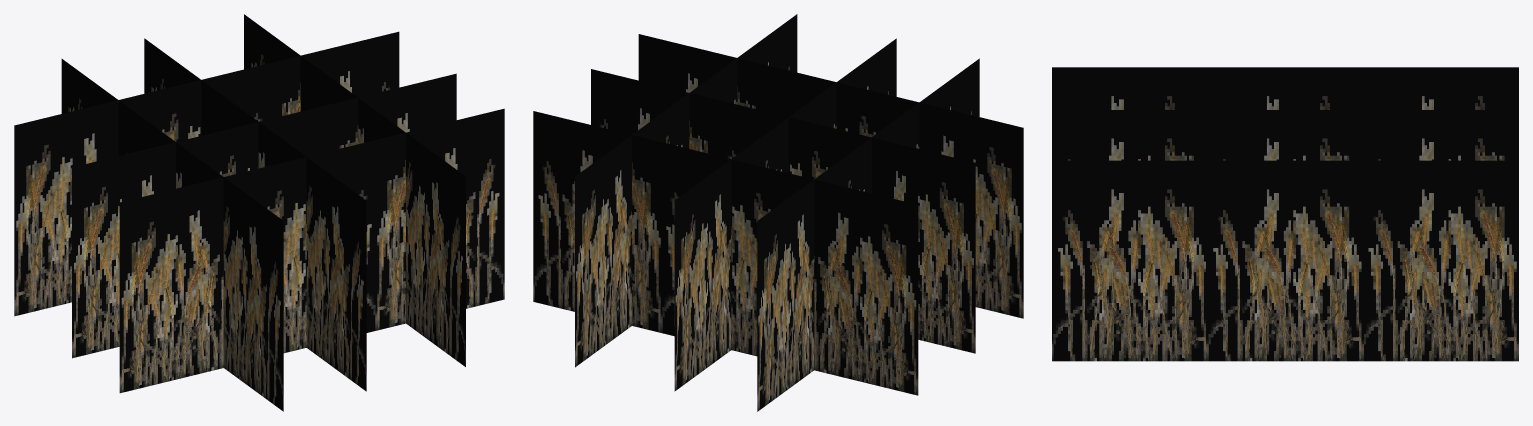
File: KM_VOB_WHEAT_01.glb
The picture shows the model from 3 angles, left to right: view 1: azimuth 30°, elevation 25°; view 2: azimuth 150°, elevation 25°; view 3: azimuth 270°, elevation 25°; orthographic projection. The views are drawn at different scales.
Visible parts, largest first — view 1: Mesh; view 2: Mesh; view 3: Mesh.
Boxes of the visible parts, x1,y1,x2,y2 form: Mesh: (14,14,504,411); Mesh: (533,14,1023,411); Mesh: (1052,67,1518,361).
Bounding box in the file's own units: 4.31 × 2.04 × 4.31.
1 material, 1 textured.
